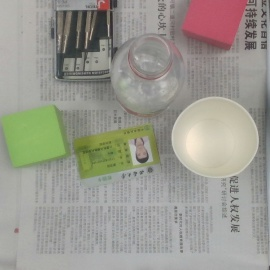bottle: (110, 35, 185, 117)
card: (75, 124, 164, 190)
cup: (174, 97, 258, 181)
